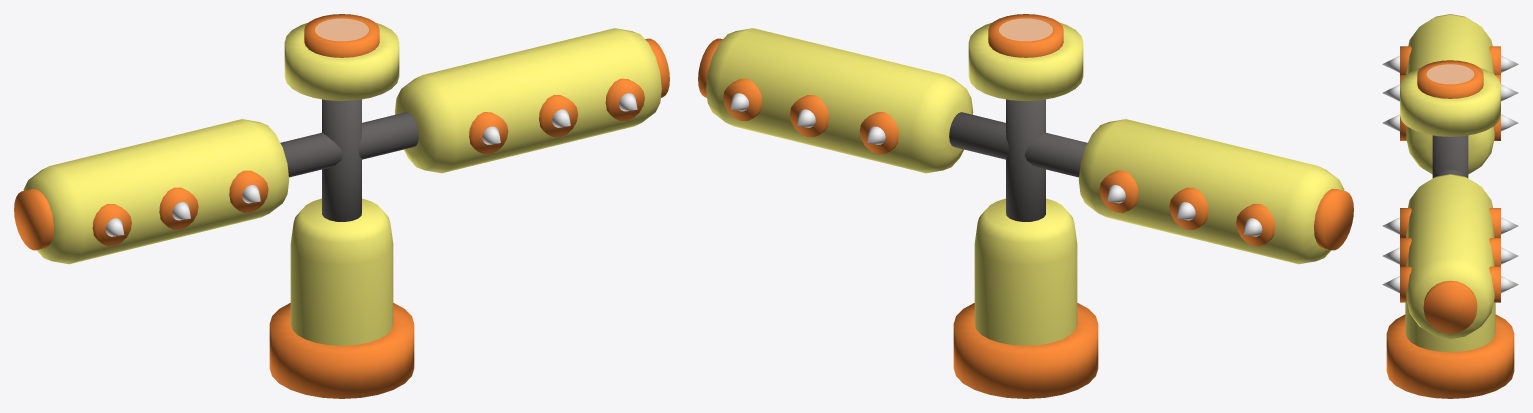
File: Obstacle 10 V3.fbx
The picture shows the model from 3 angles, left to right: view 1: azimuth 30°, elevation 25°; view 2: azimuth 150°, elevation 25°; view 3: azimuth 270°, elevation 25°; orthographic projection. The views are drawn at different scales.
Visible parts, largest first — view 1: O10 Part 1, O10 Part 2; view 2: O10 Part 1, O10 Part 2; view 3: O10 Part 1, O10 Part 2.
Boxes of the visible parts, x1,y1,x2,y2 form: O10 Part 1: [14, 28, 669, 264]; O10 Part 2: [269, 14, 414, 398]; O10 Part 1: [698, 28, 1353, 264]; O10 Part 2: [953, 14, 1098, 398]; O10 Part 1: [1382, 14, 1518, 339]; O10 Part 2: [1386, 60, 1514, 398].
Bounding box in the file's own units: 225 × 116 × 48.44.
Materials: 1 (1 with a texture image).
